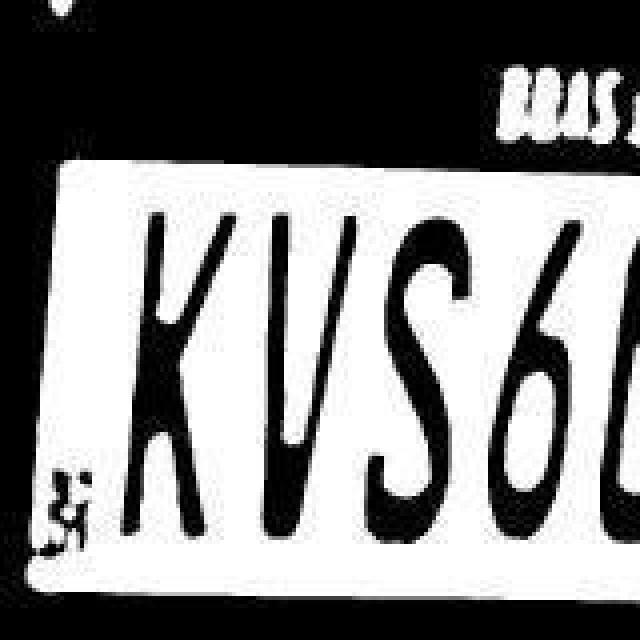6: (474, 216, 582, 544)
K: (116, 214, 236, 538)
S: (360, 202, 472, 550)
V: (262, 206, 362, 538)
